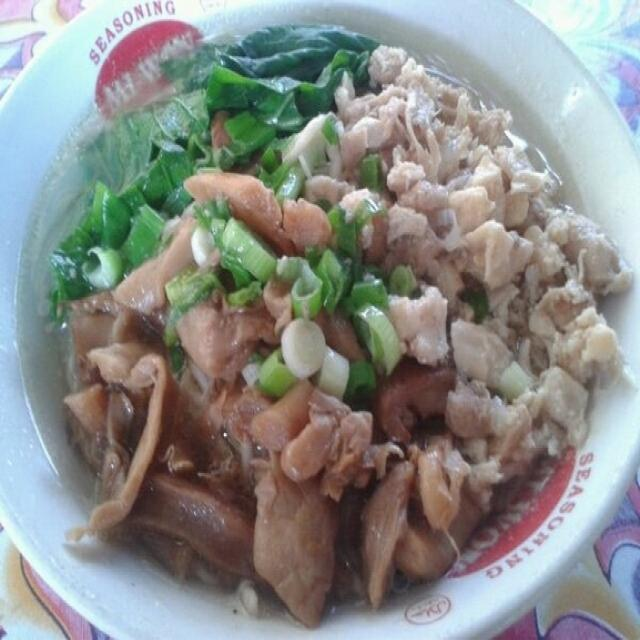面条主食: (6, 1, 634, 621)
